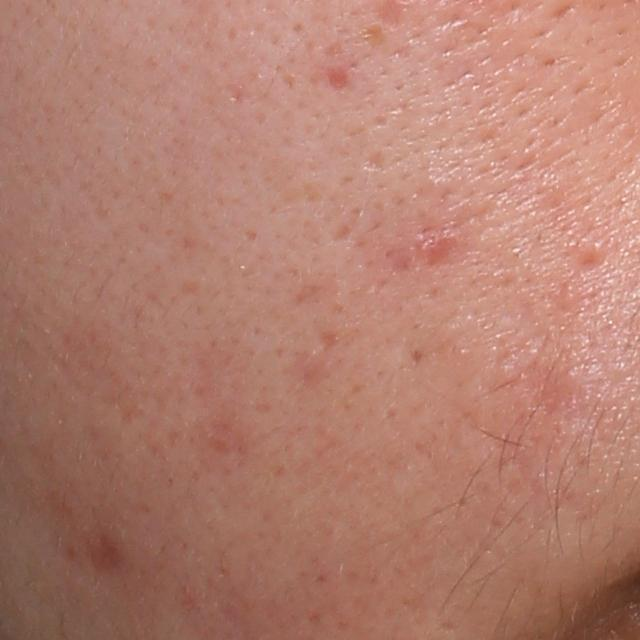atrophic_scar: (572, 249, 607, 272), (363, 149, 387, 173)
papule: (413, 229, 456, 269)
